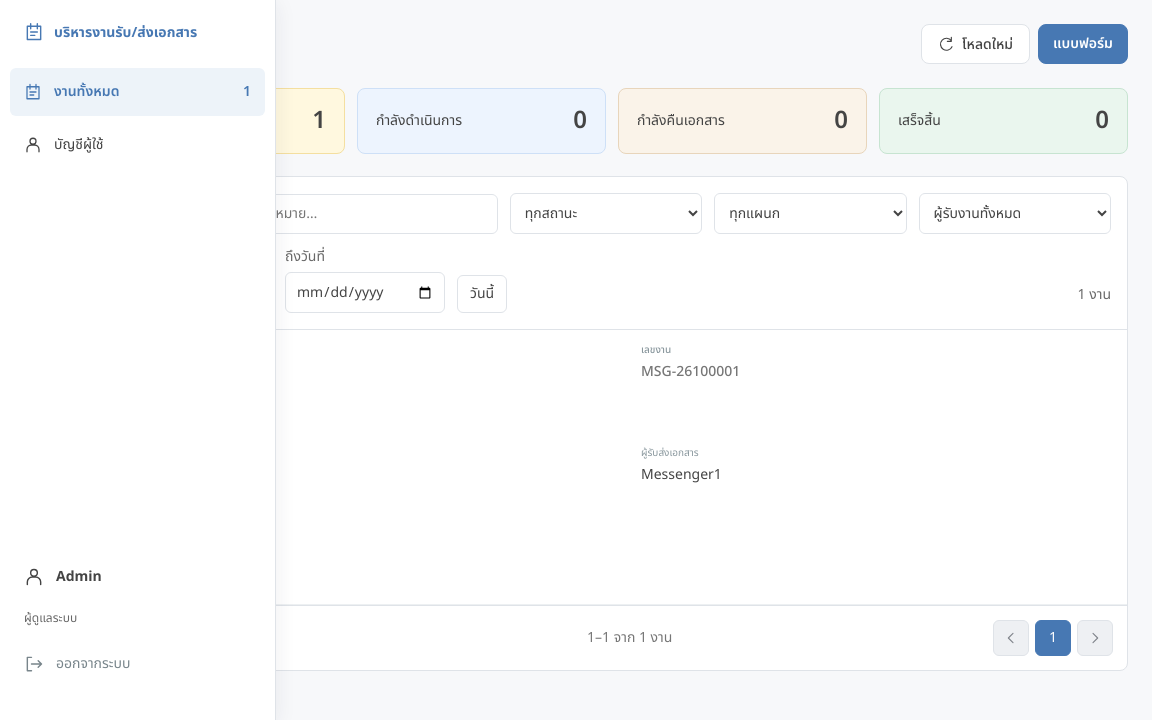
it: switches the detail history tab using the keyboard
Click the button "MSG-" at point(612, 589), box [97,330,1127,605]
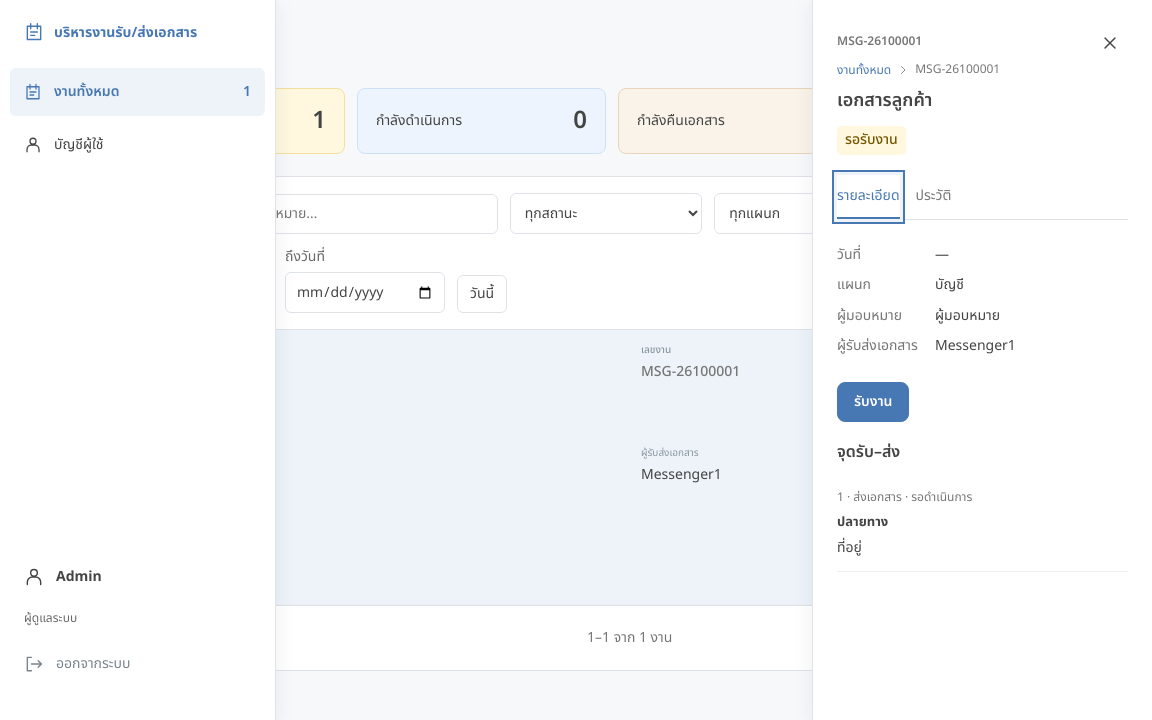
Press Arrowright
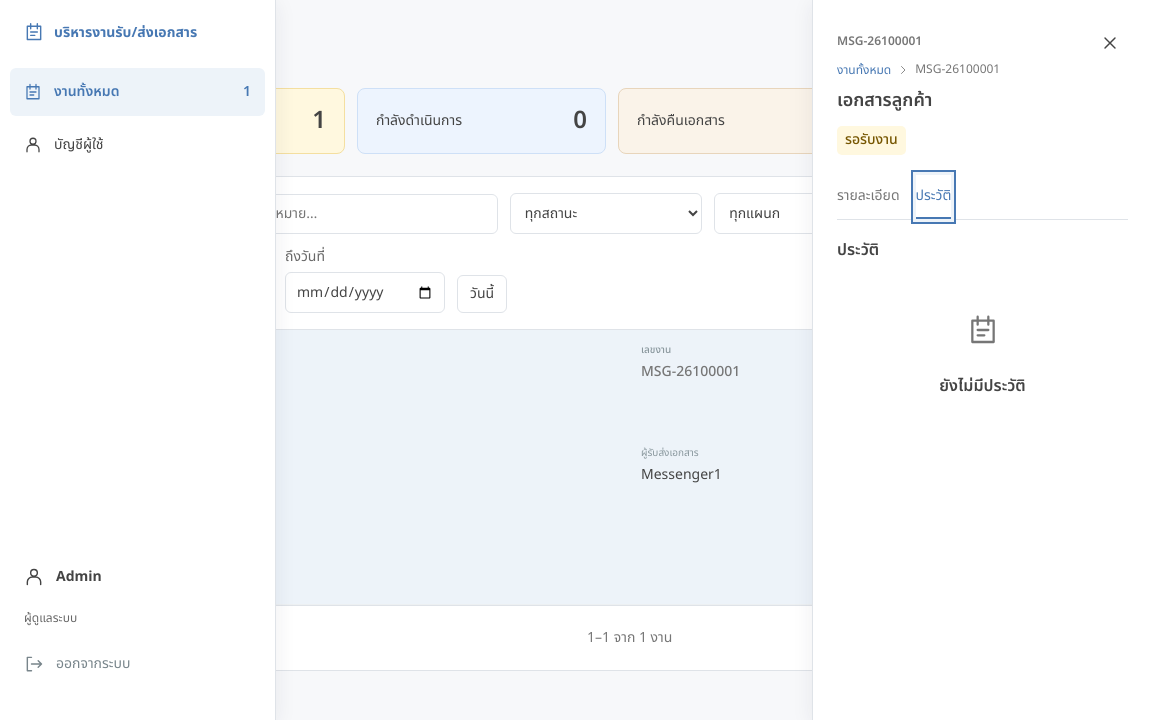
Expected: the panel shows "ยังไม่มีประวัติ", [939,374,1026,398]
